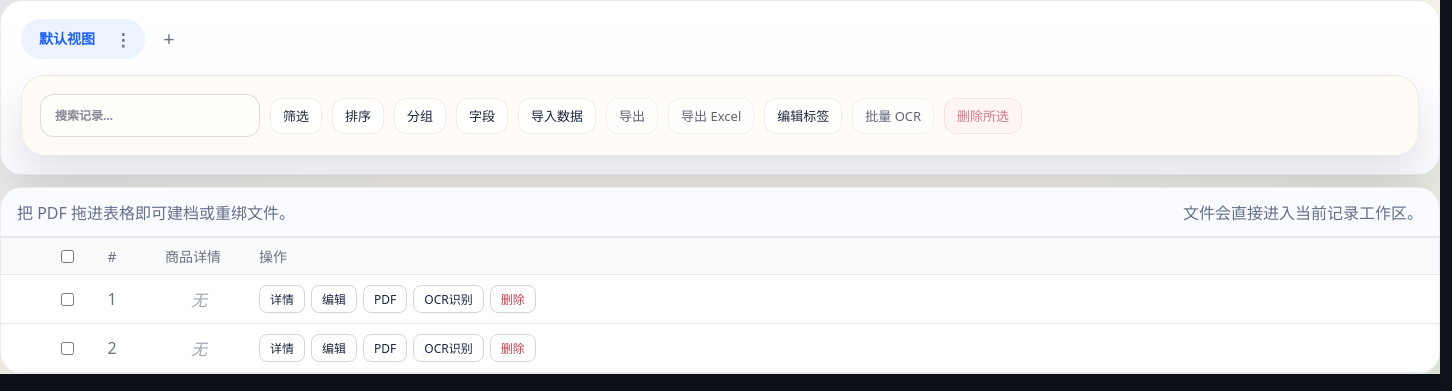
Test: InvoiceWorkspace remark › matches workspace search against invoice remarks
Step 1. Type "差旅备注" into the field with placeholder "搜索记录..." → (150, 116), box [40, 94, 260, 137]
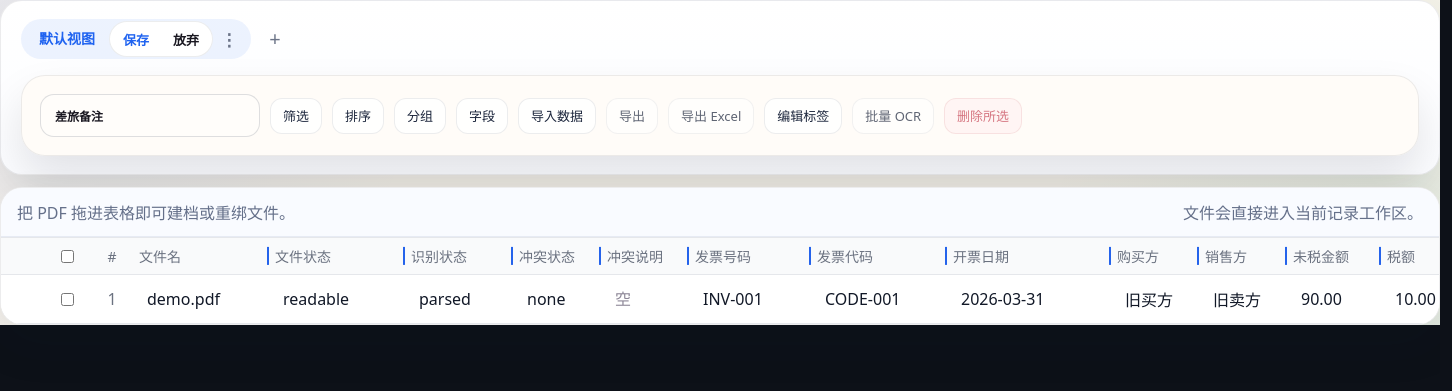
Expected: the 5th field showing "INV-001" is shown, [695, 283, 817, 315]
